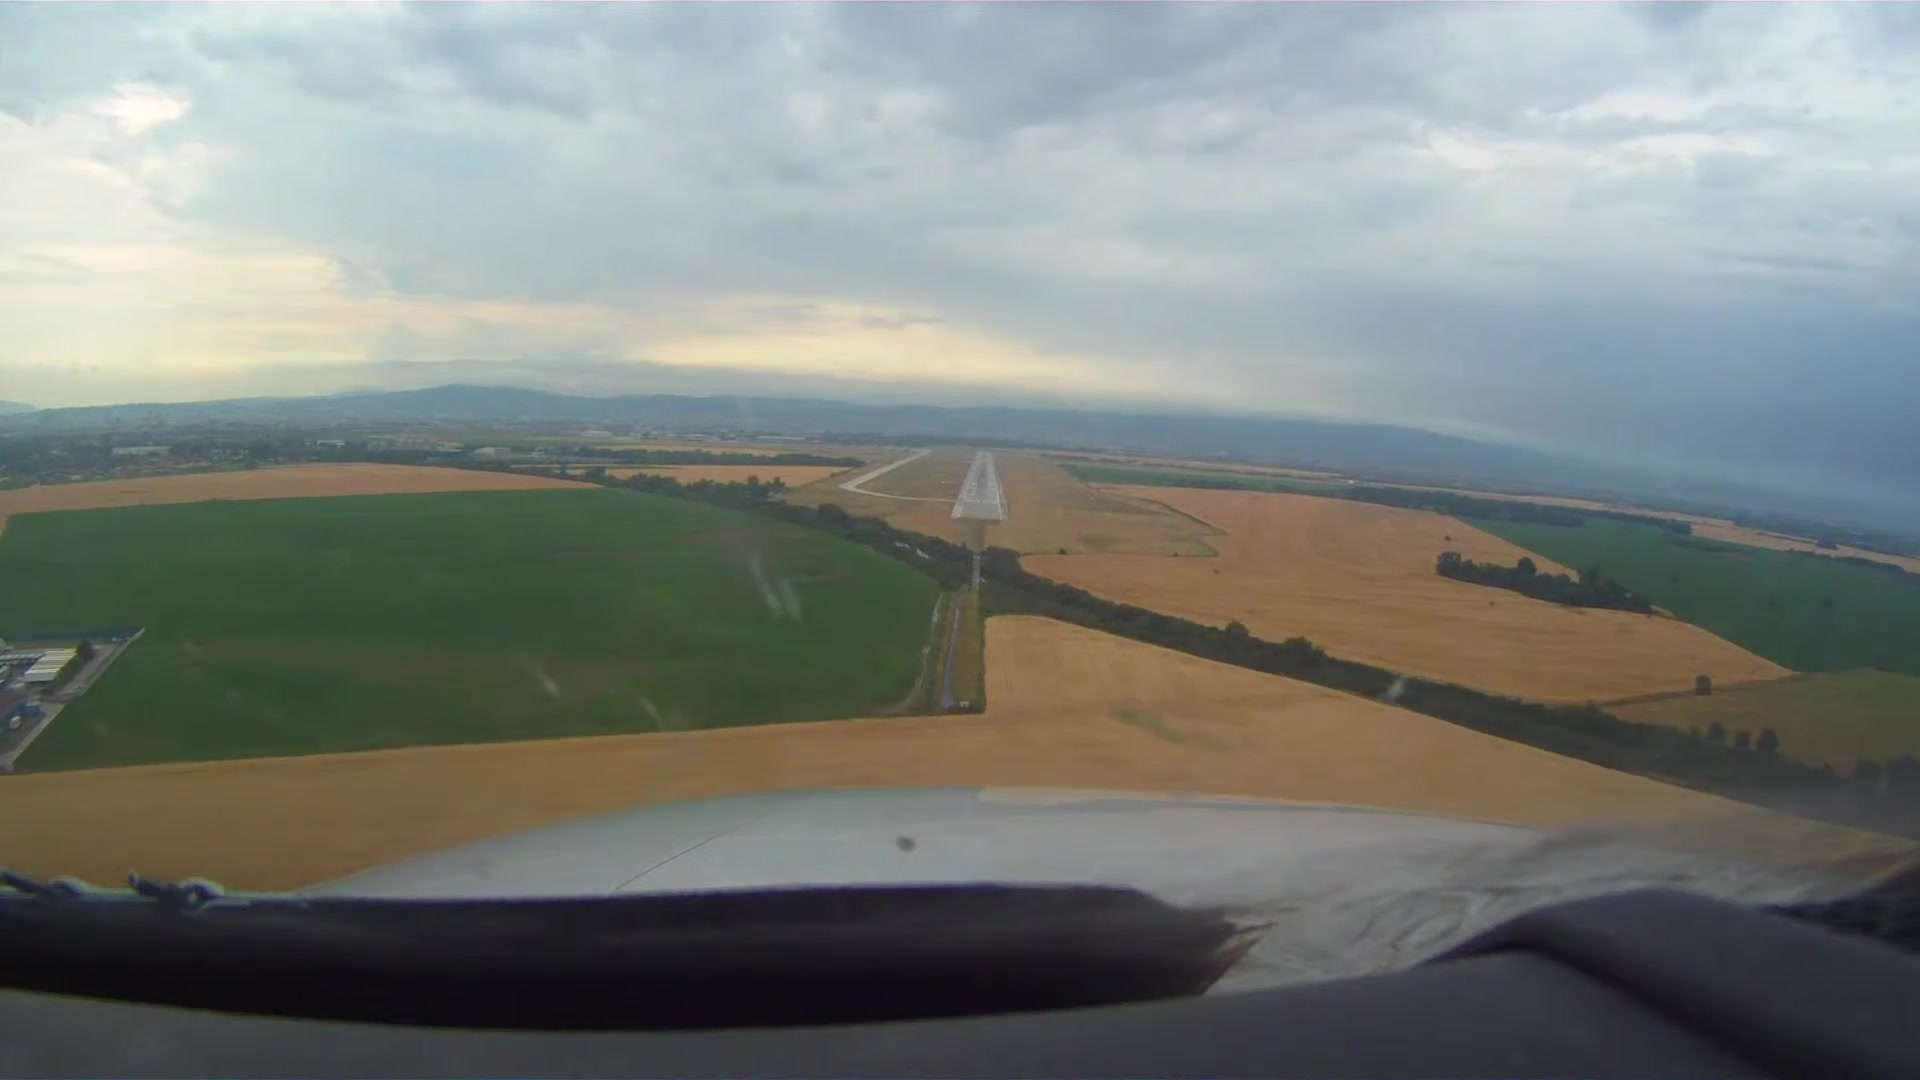entrance: (961, 497, 1000, 505)
runway: (951, 450, 1005, 518)
